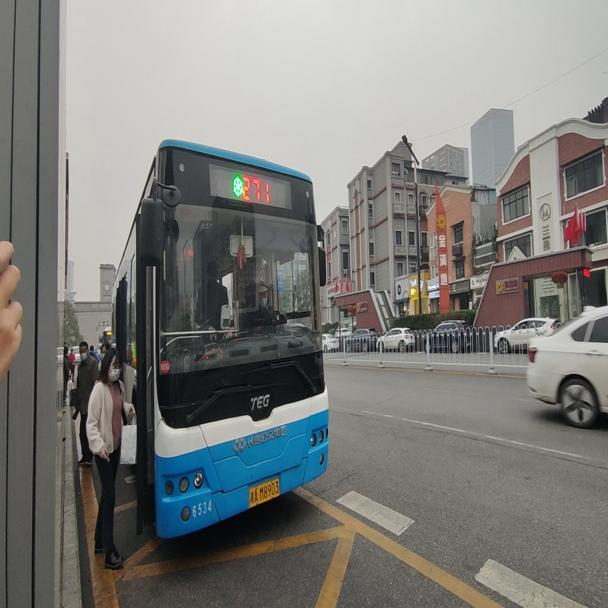bus: (111, 135, 329, 540)
screen: (240, 166, 271, 209)
